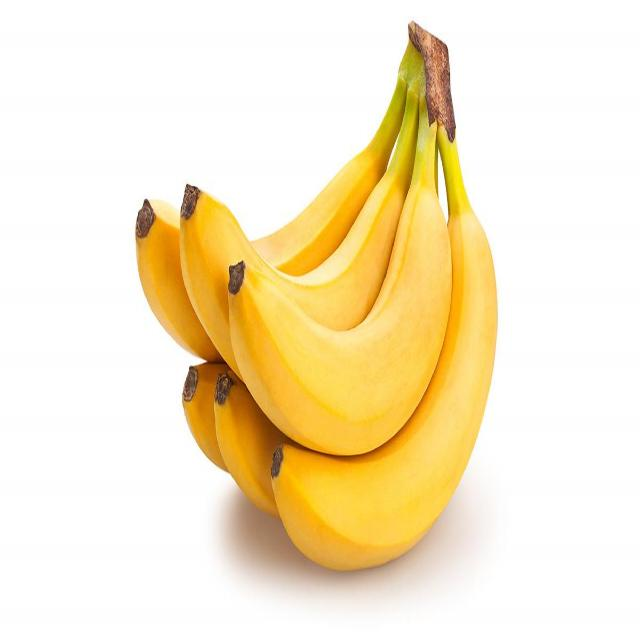banana: (133, 14, 504, 592)
